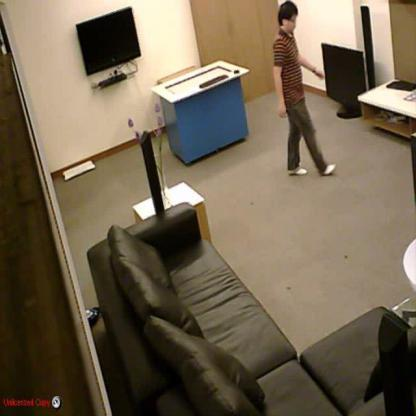Person: (272, 0, 336, 177)
